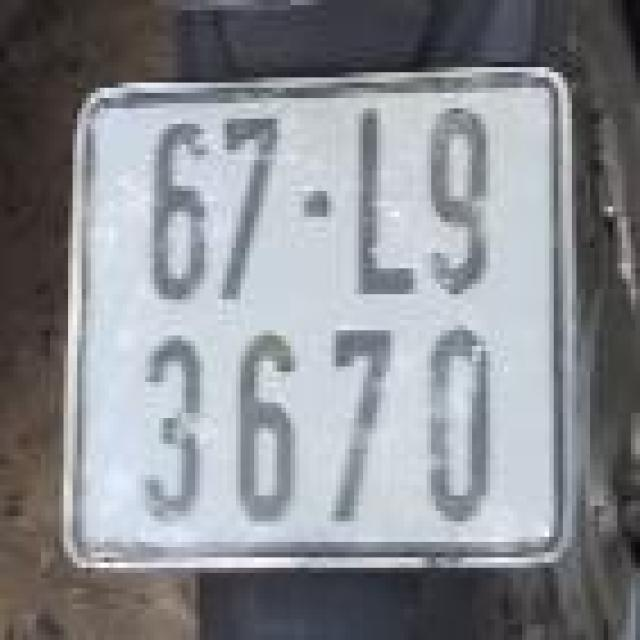0: (422, 322, 504, 524)
3: (132, 330, 208, 526)
6: (227, 323, 309, 534), (141, 113, 218, 315)
7: (320, 315, 406, 526), (220, 111, 288, 307)
9: (426, 98, 494, 299)
L: (343, 106, 420, 302)
